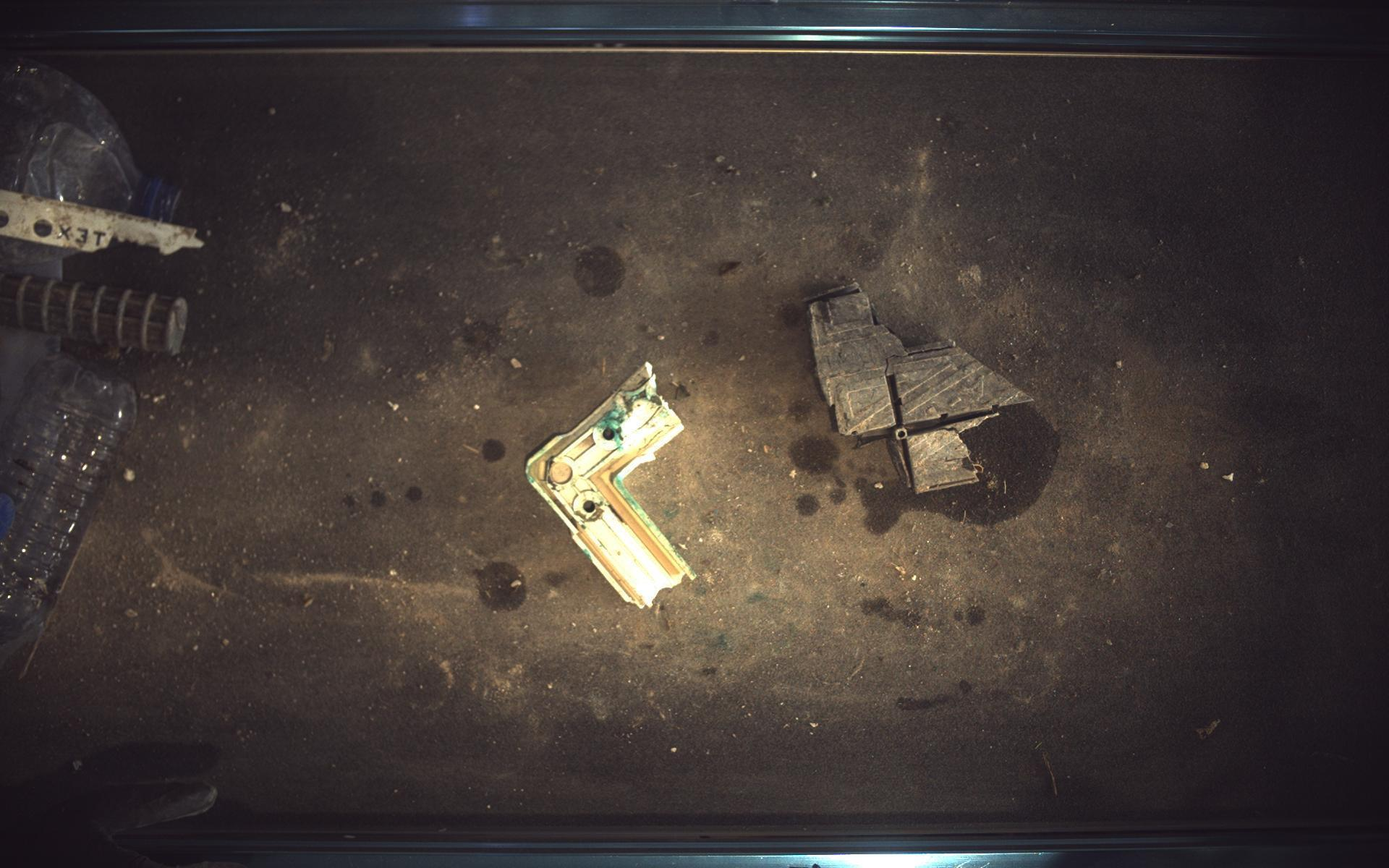plastic: (808, 283, 1035, 493), (526, 362, 696, 609)
